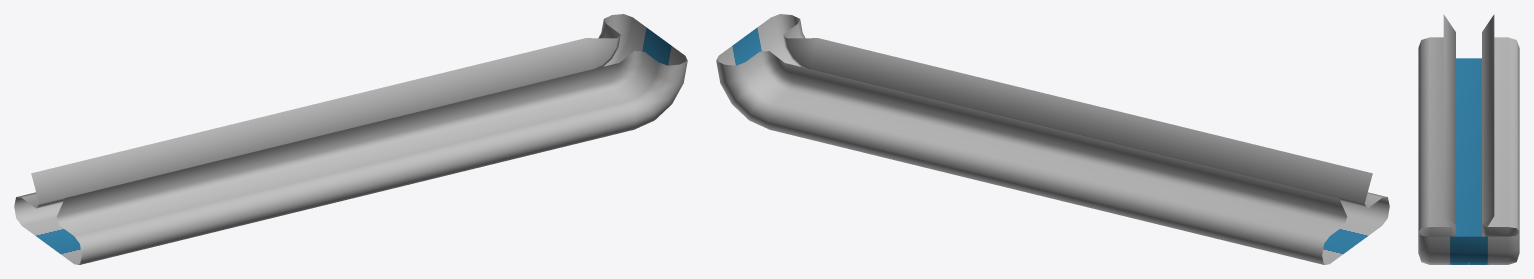
Rendered from Handrail_End.obj.
3 views of the same model, side by side, from view 1: azimuth 30°, elevation 25°; view 2: azimuth 150°, elevation 25°; view 3: azimuth 270°, elevation 25° (orthographic). The views are drawn at different scales.
Visible parts, largest first — view 1: Handrail_End; view 2: Handrail_End; view 3: Handrail_End.
Boxes of the visible parts, x1=… form: Handrail_End: x1=14, y1=14, x2=687, y2=264; Handrail_End: x1=716, y1=14, x2=1389, y2=264; Handrail_End: x1=1418, y1=14, x2=1519, y2=264.
Size of the model in its own units: 82.39 by 7.65 by 15.8.
